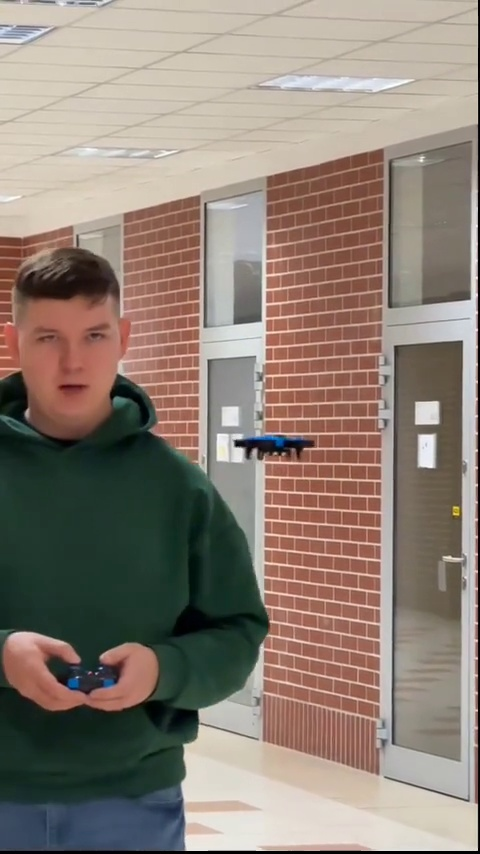drone: (236, 435, 316, 460)
no vest: (2, 246, 275, 850)
